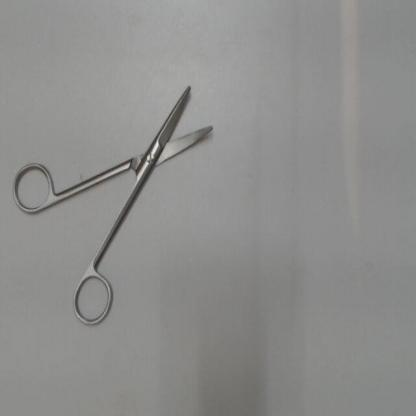Curved Mayo Scissors: (8, 72, 220, 336)
